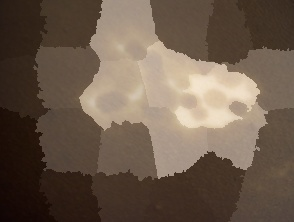vitiligo: (44, 0, 294, 216)
